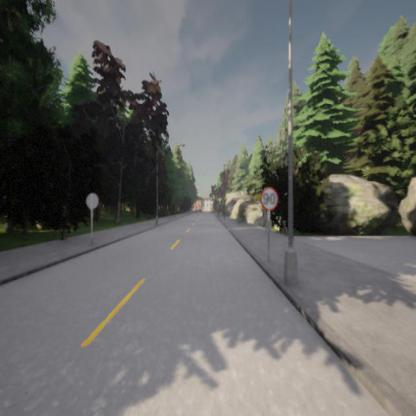traffic_sign_90: (261, 188, 279, 209)
